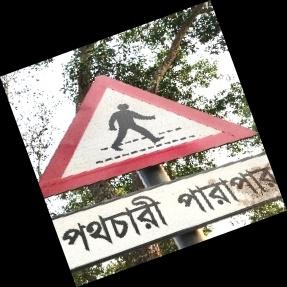Pedestrian-crossing: (41, 74, 280, 271)
